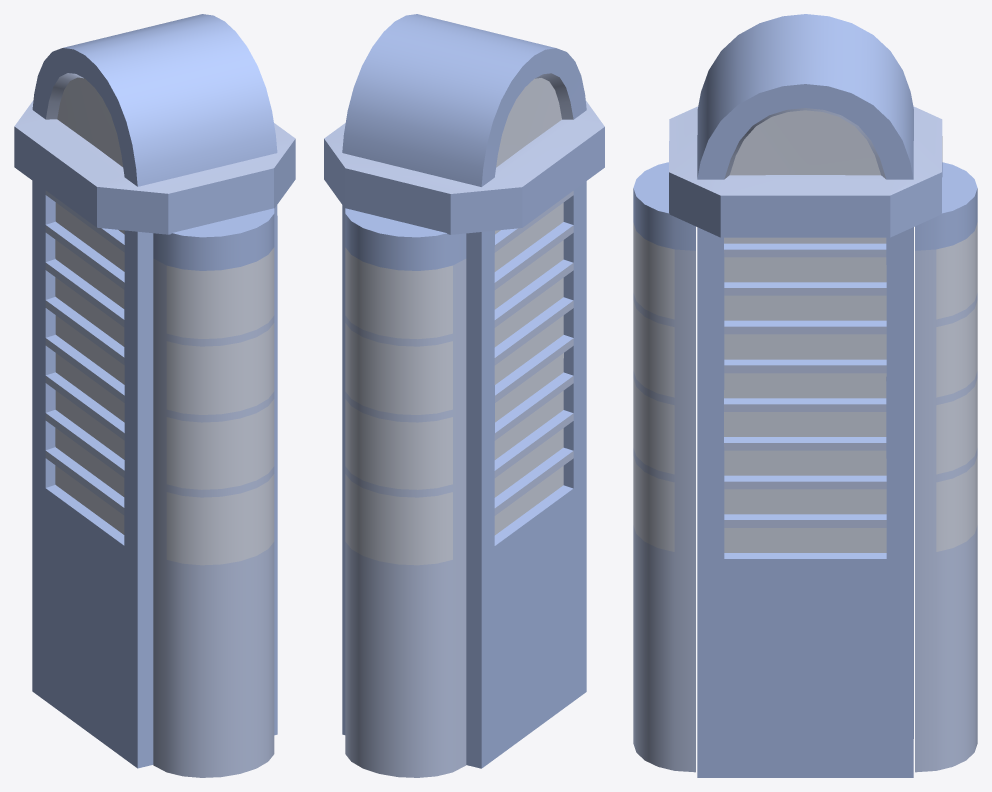
File: house_2_large.fbx
3 views of the same model, side by side, from view 1: azimuth 30°, elevation 25°; view 2: azimuth 150°, elevation 25°; view 3: azimuth 270°, elevation 25° (orthographic). The views are drawn at different scales.
Visible parts, largest first — view 1: house_2_large; view 2: house_2_large; view 3: house_2_large.
Part boxes in pixels (x1,y1,x2,y2): house_2_large: [14, 14, 295, 777]; house_2_large: [324, 14, 604, 777]; house_2_large: [633, 14, 977, 777].
Size of the model in its own units: 65.02 by 211 by 94.84.
